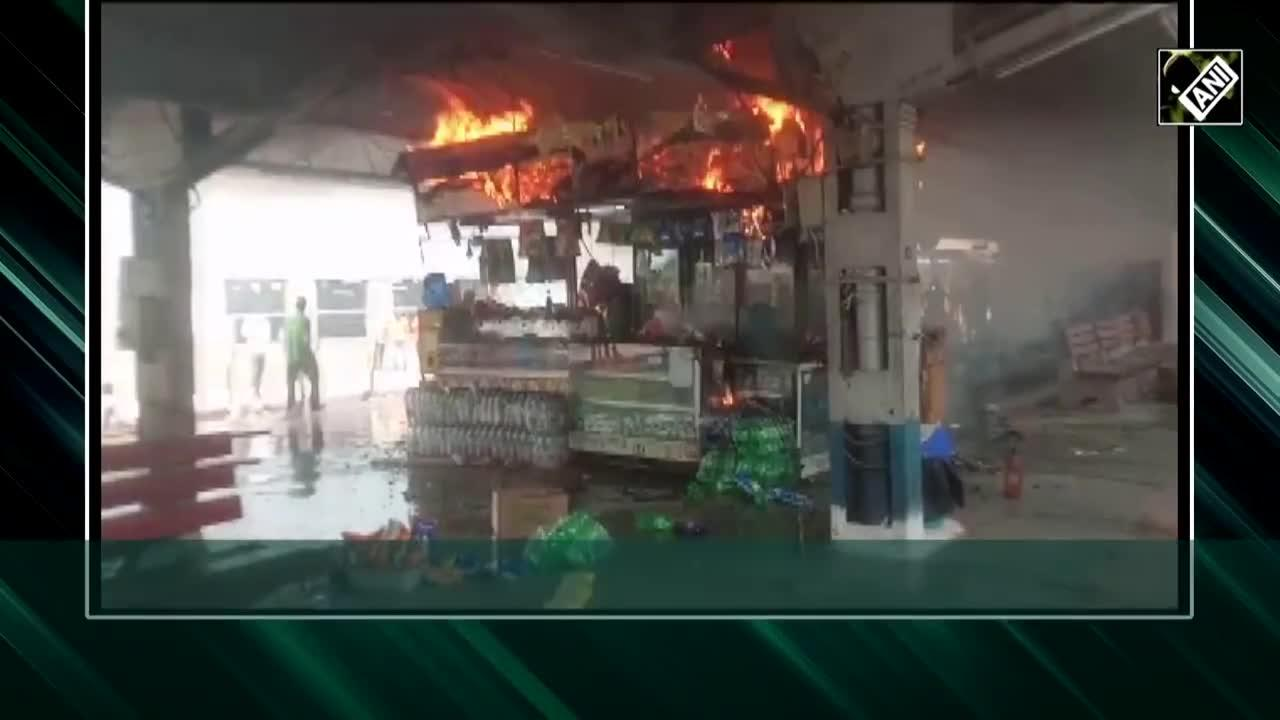fire: (419, 99, 533, 149), (477, 157, 567, 211), (740, 90, 807, 143), (702, 146, 735, 195)
smoke: (921, 124, 1159, 356)
